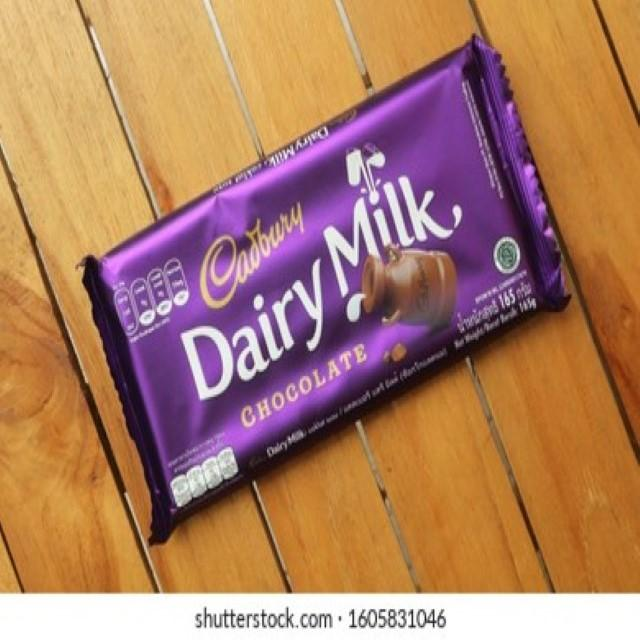cadbury_chocolate: (122, 52, 498, 523)
